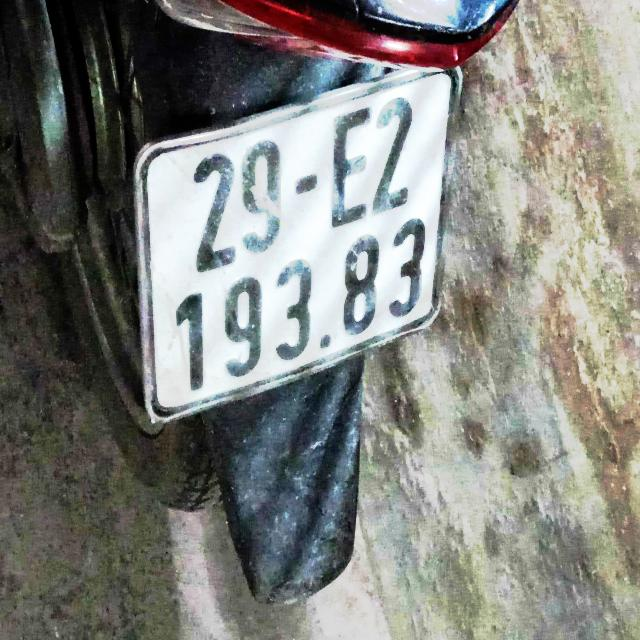license_plate: (130, 63, 464, 429)
